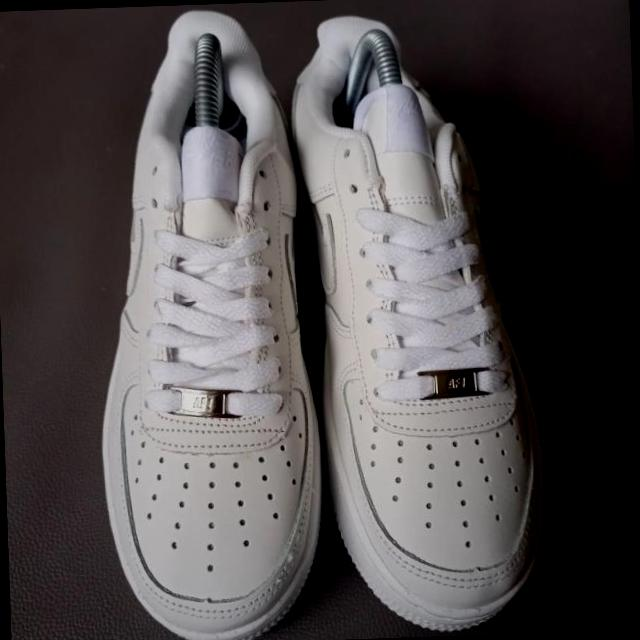nike_fake_airforce: (287, 16, 553, 630), (78, 23, 325, 640)
